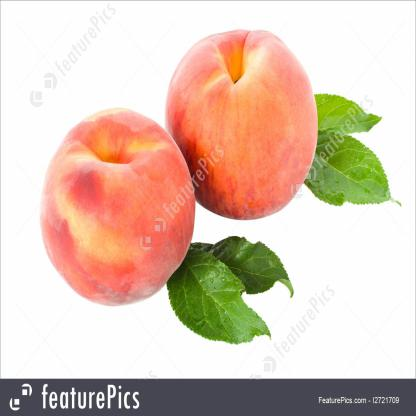Peach leaf: (167, 250, 274, 349), (305, 135, 403, 212), (207, 237, 297, 296), (308, 95, 388, 137)
